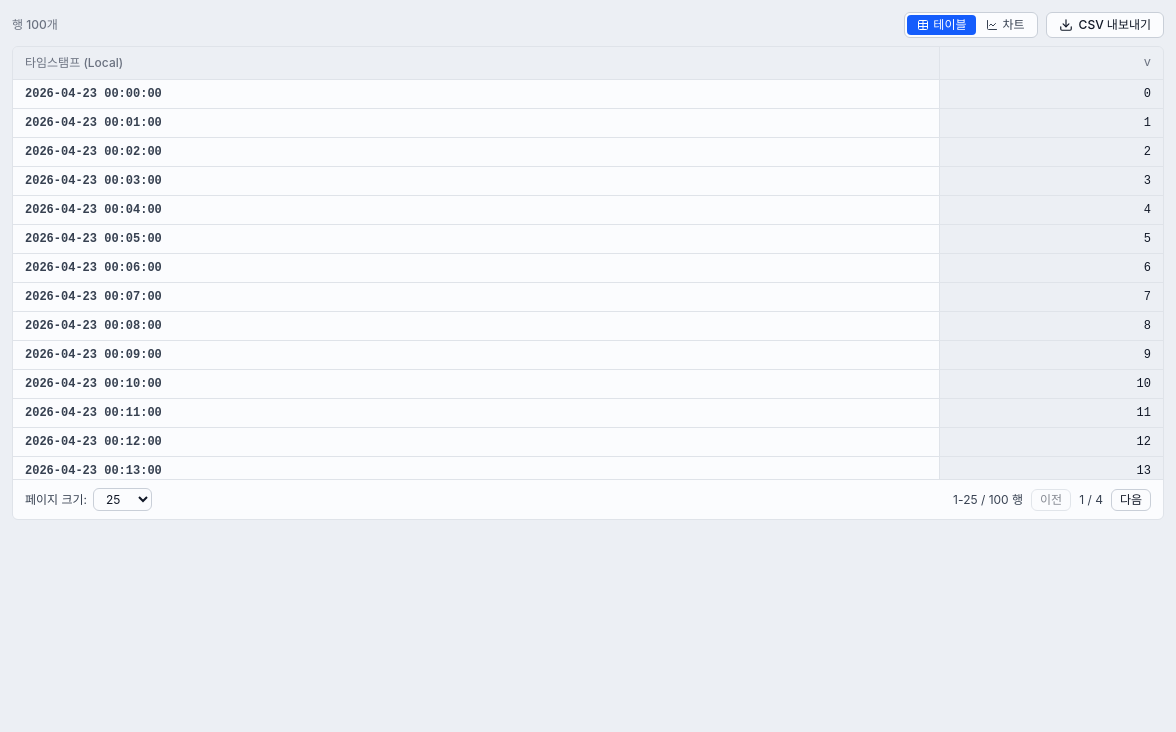
Test: SeriesResultMatrix: 페이지네이션 › 마지막 페이지에서 "다음" 버튼은 비활성
# 4 페이지로 이동.
Click the button with test id "tsdb-page-next": click(1131, 500) [1111,488,1151,510]
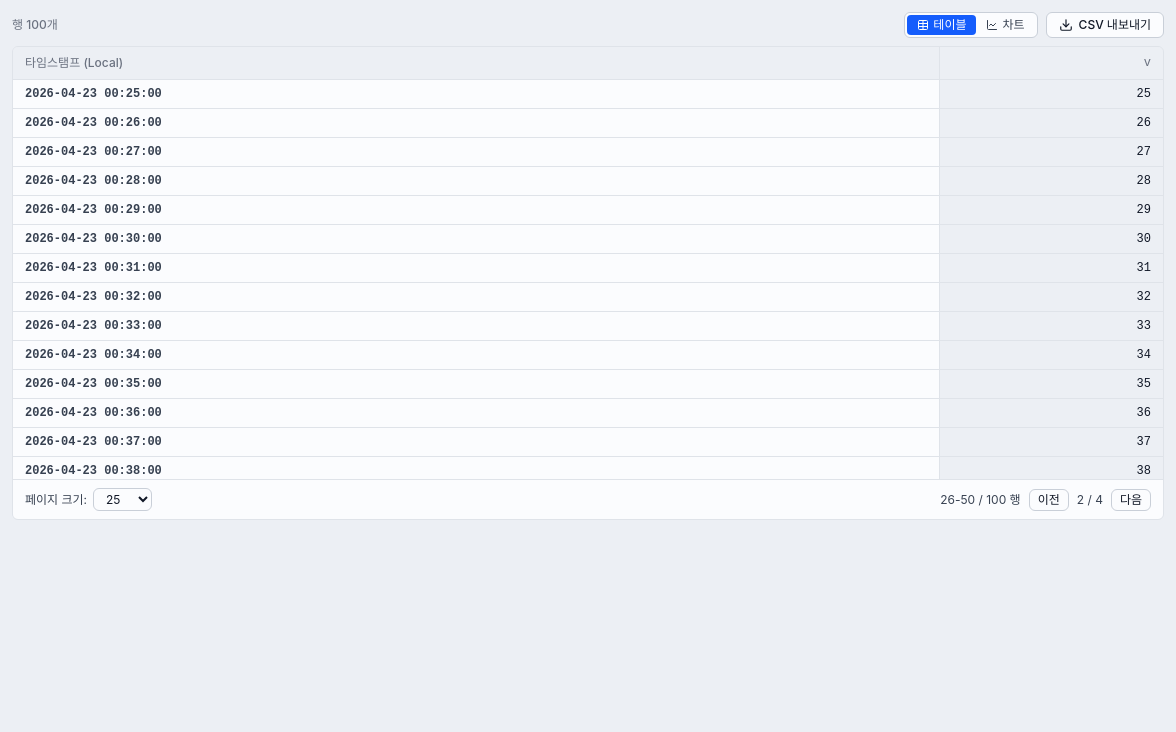
Click the button with test id "tsdb-page-next": click(1131, 500) [1111,488,1151,510]
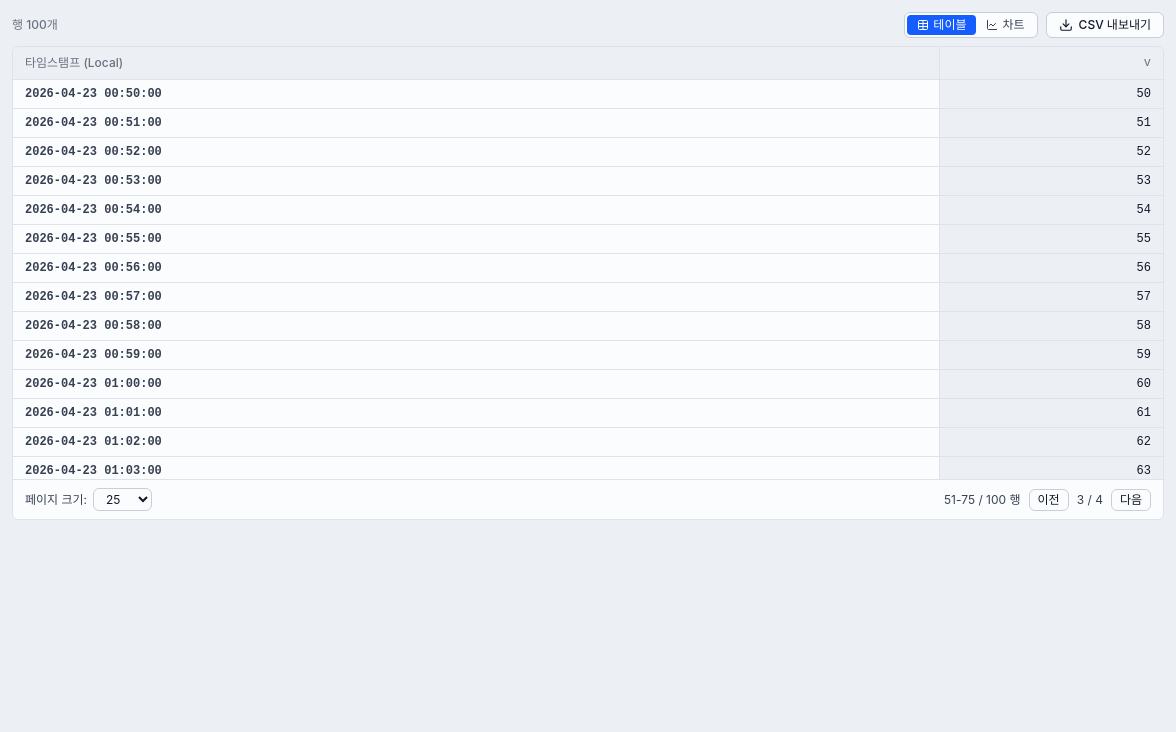
Click the button with test id "tsdb-page-next": click(1131, 500) [1111,488,1151,510]
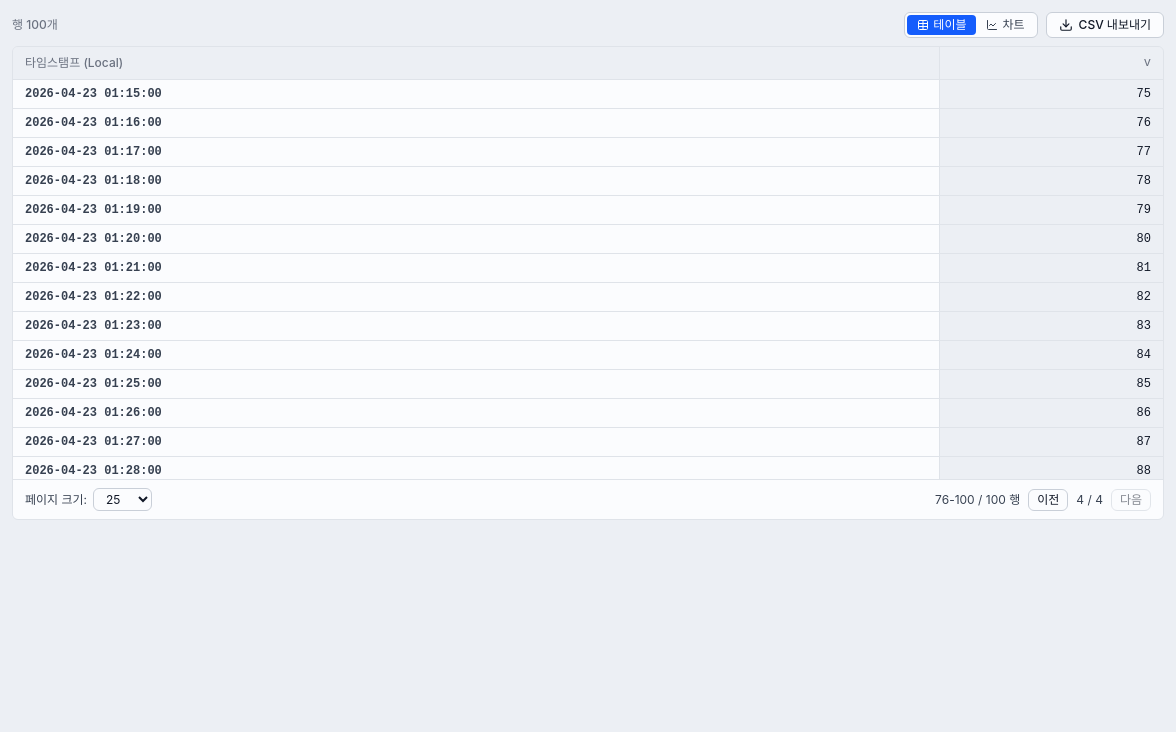
Expected: the text with test id "tsdb-page-indicator" reads "4 / 4", [1076,492,1103,508]
Expected: the button with test id "tsdb-page-next" is disabled, [1111,488,1151,510]
